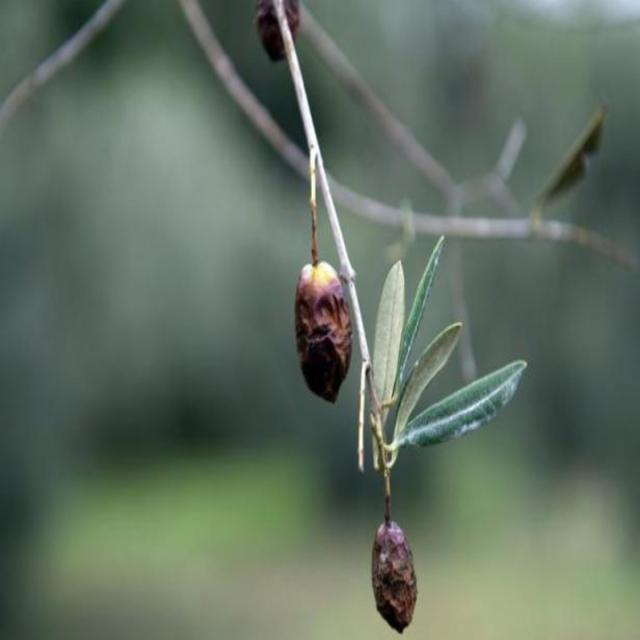Olive Fruit Fly: (295, 260, 353, 402), (371, 517, 418, 633)
